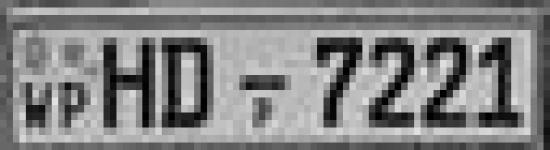-: (238, 68, 295, 99)
1: (474, 32, 528, 134)
2: (419, 30, 474, 129), (367, 32, 419, 136)
7: (311, 31, 366, 132)
H: (159, 30, 224, 132), (100, 33, 160, 132)
P: (57, 79, 91, 137)
W: (24, 80, 55, 134)
